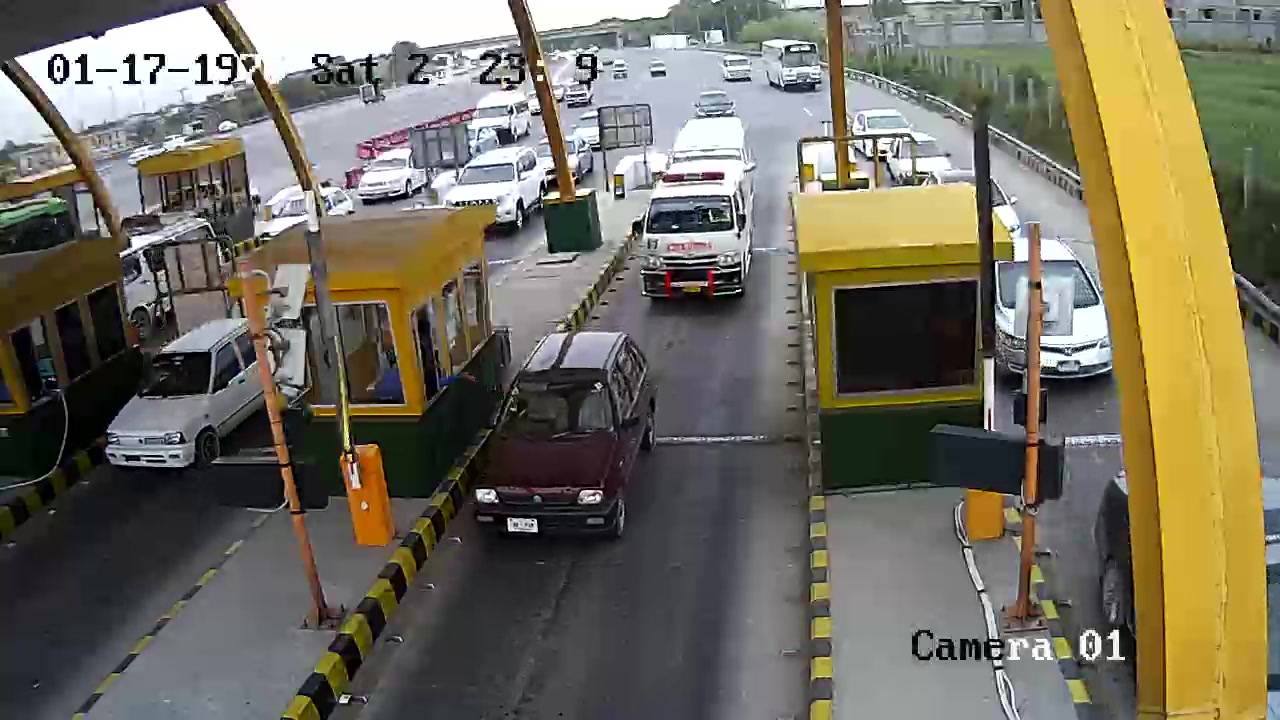F1: (471, 326, 669, 561)
